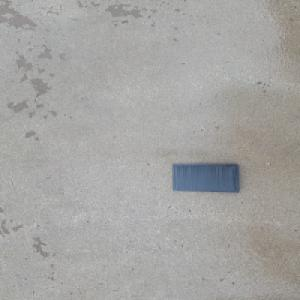PlasticPart: (170, 162, 241, 193)
